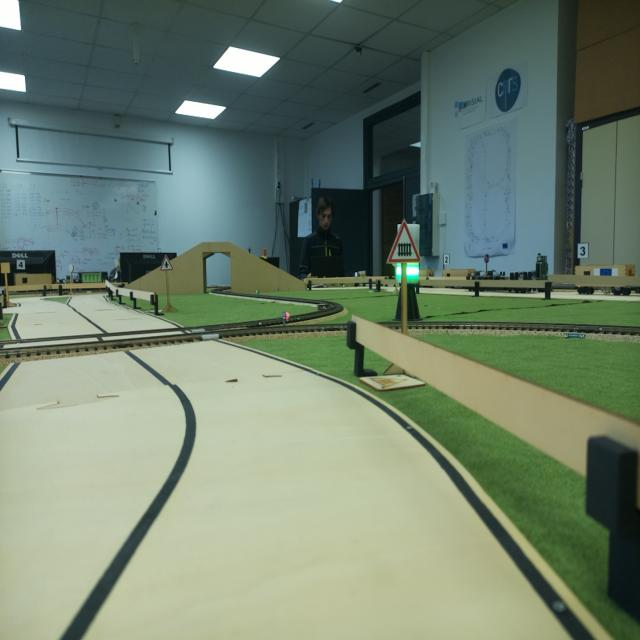panneau_barriere: (387, 222, 428, 273)
